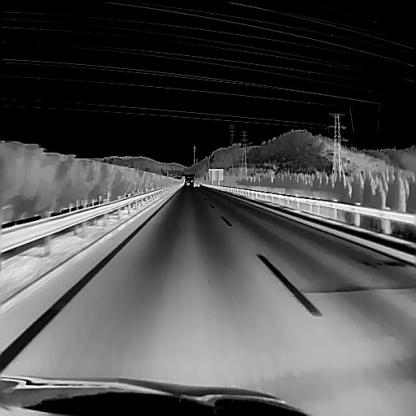truck: (192, 174, 199, 186)
